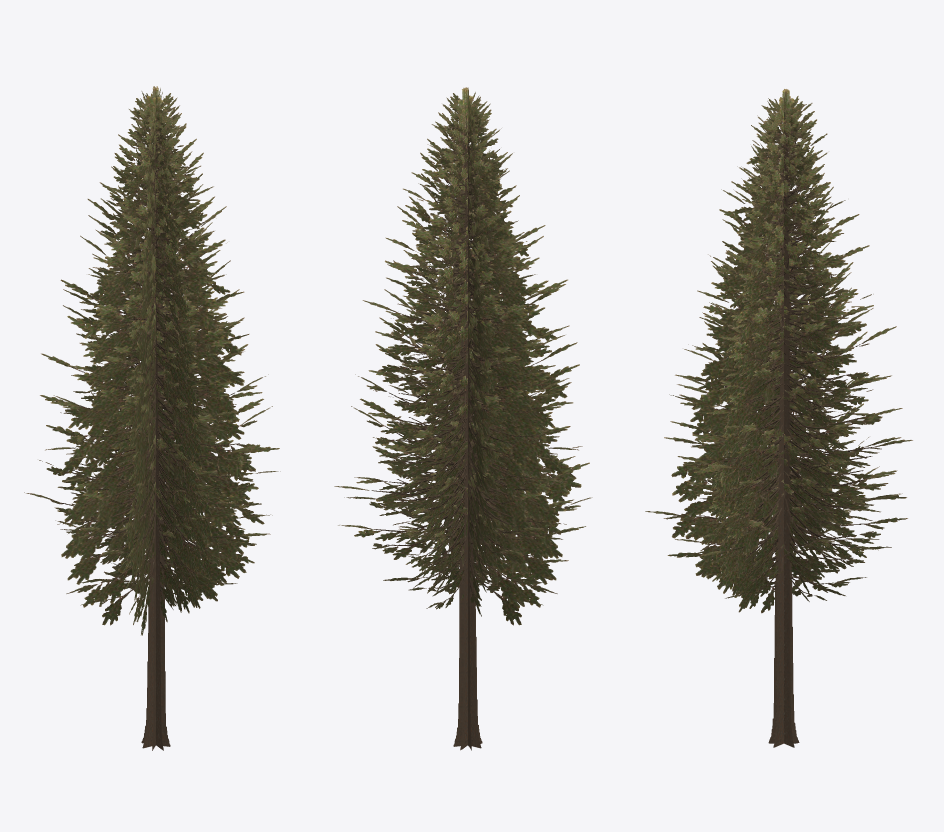
Rendered from fir_tall_a_lod3_cross.gltf.
The picture shows the model from 3 angles, left to right: view 1: azimuth 30°, elevation 25°; view 2: azimuth 150°, elevation 25°; view 3: azimuth 270°, elevation 25°; orthographic projection.
Parts seen in each view (by area): view 1: fir_tall_a_LOD3; view 2: fir_tall_a_LOD3; view 3: fir_tall_a_LOD3.
Boxes of the visible parts, <box> form: fir_tall_a_LOD3: <box>24,86,280,750</box>; fir_tall_a_LOD3: <box>334,87,592,750</box>; fir_tall_a_LOD3: <box>645,89,912,747</box>.
Size of the model in its own units: 12.36 by 31.81 by 12.36.
1 material, 1 textured.
